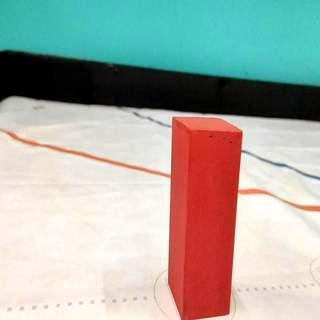redbox: (166, 115, 242, 320)
